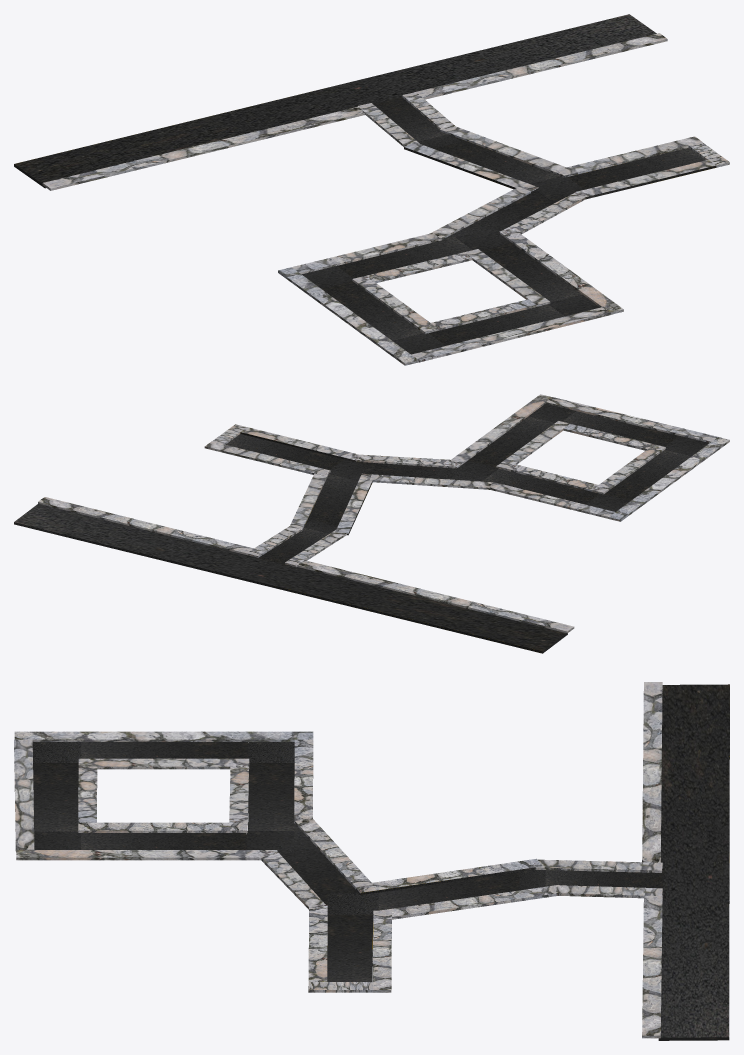
Rendered from calles_banquetas_unosolo.obj.
The picture shows the model from 3 angles, top to bottom: view 1: azimuth 30°, elevation 25°; view 2: azimuth 150°, elevation 25°; view 3: azimuth 270°, elevation 25°; orthographic projection. The views are drawn at different scales.
Visible parts, largest first — view 1: Cube_Cube.007_Cube_Cube.009; view 2: Cube_Cube.007_Cube_Cube.009; view 3: Cube_Cube.007_Cube_Cube.009.
Boxes of the visible parts, x1=… form: Cube_Cube.007_Cube_Cube.009: x1=14, y1=14, x2=729, y2=365; Cube_Cube.007_Cube_Cube.009: x1=14, y1=394, x2=729, y2=653; Cube_Cube.007_Cube_Cube.009: x1=14, y1=682, x2=729, y2=1040.
Size of the model in its own units: 5003 by 36.41 by 4282.
10 materials, 10 textured.
